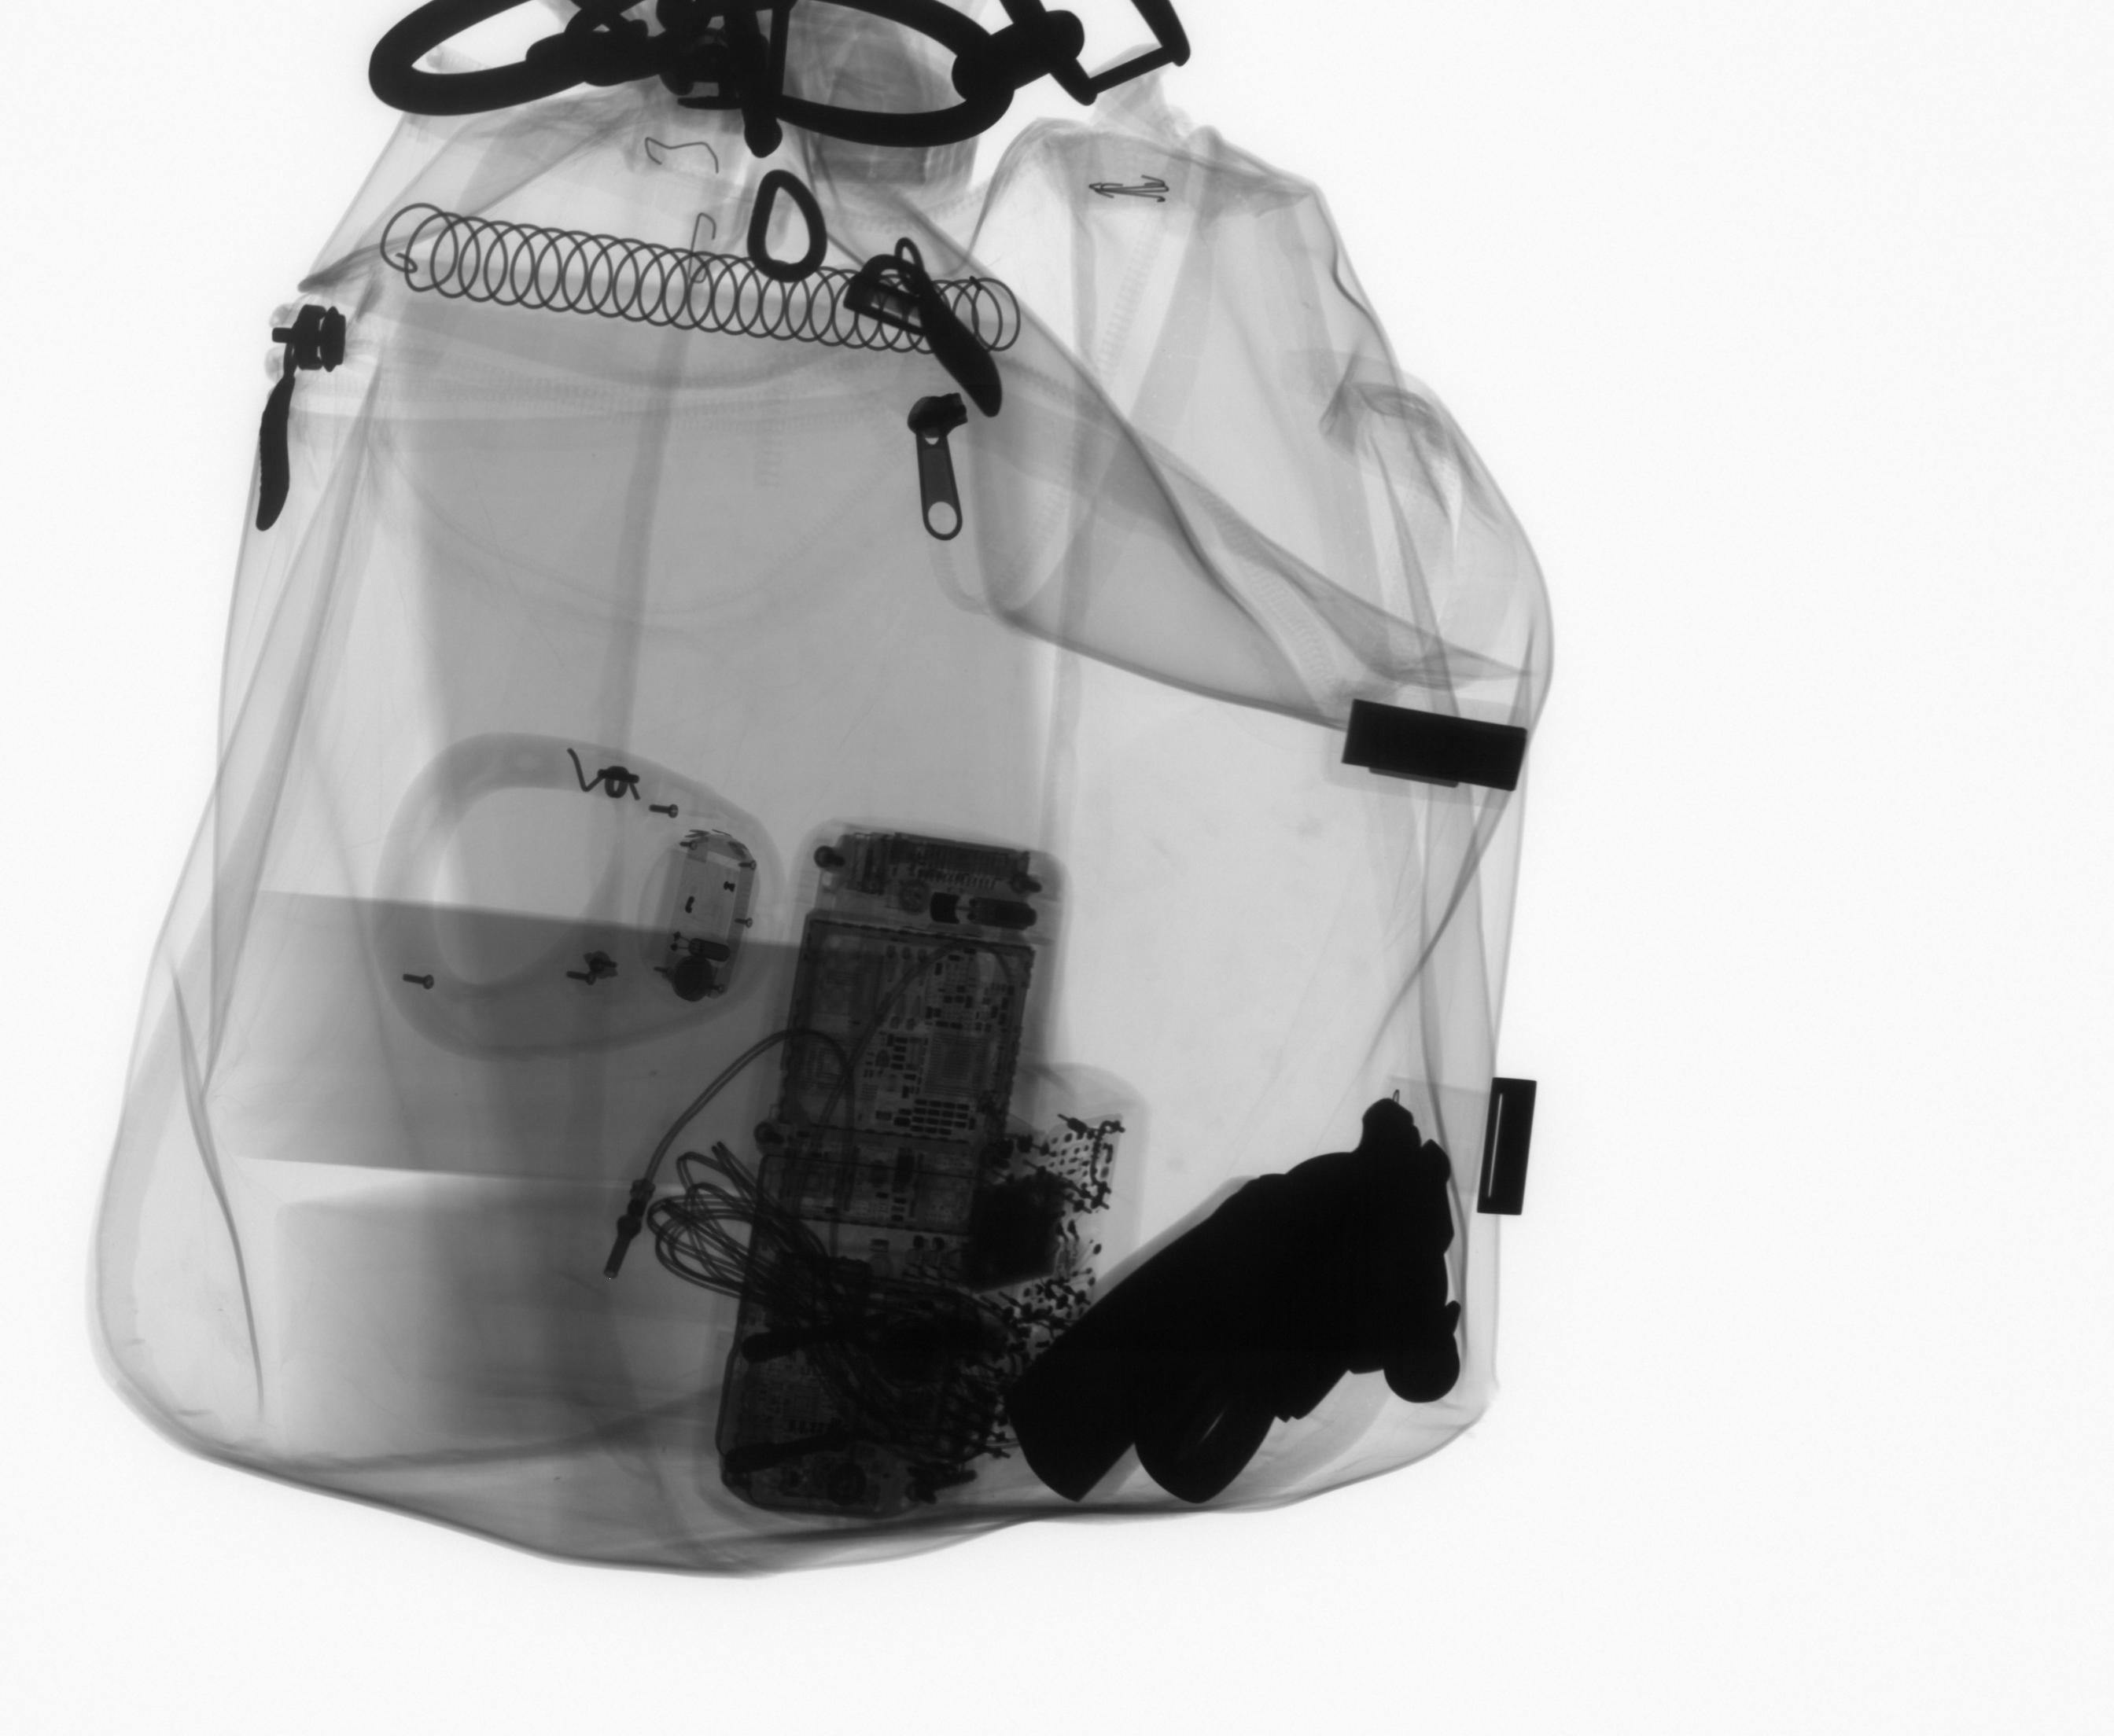Handgun: (1006, 1088, 1471, 1513)
